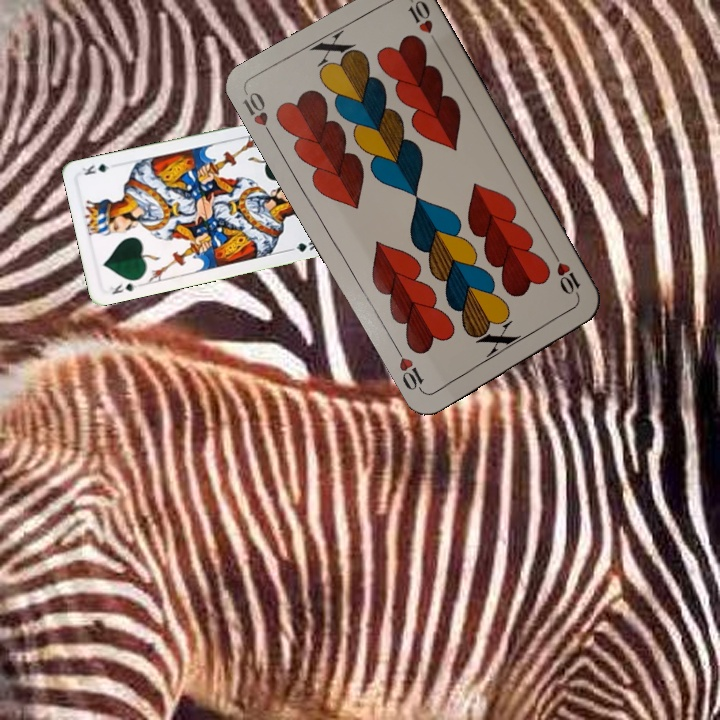GK: (106, 279, 139, 297)
H10: (239, 87, 277, 142), (548, 247, 583, 301)
